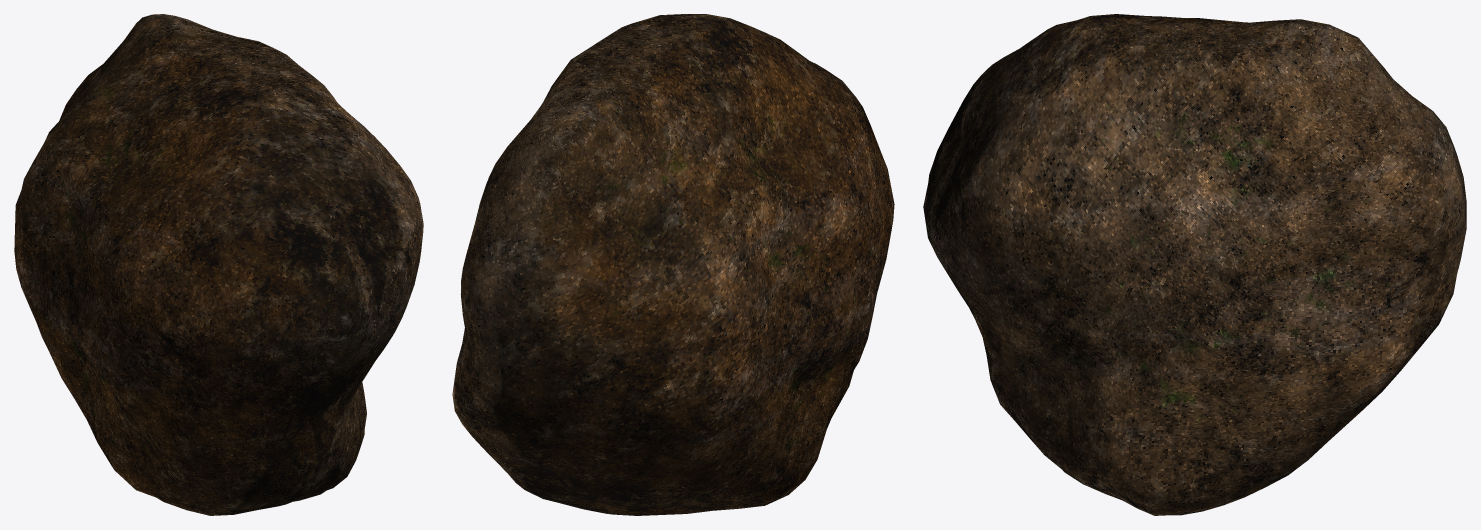
Rendered from SM_TI_Rock_1.gltf.
3 renders of one model, left to right at view 1: azimuth 30°, elevation 25°; view 2: azimuth 150°, elevation 25°; view 3: azimuth 270°, elevation 25°, orthographic. The views are drawn at different scales.
Visible parts, largest first — view 1: SM_TI_Rock_1; view 2: SM_TI_Rock_1; view 3: SM_TI_Rock_1.
Part boxes in pixels (x1,y1,x2,y2): SM_TI_Rock_1: (14, 14, 423, 515); SM_TI_Rock_1: (452, 14, 894, 515); SM_TI_Rock_1: (923, 14, 1466, 515).
Size of the model in its own units: 5.29 by 7.74 by 8.32.
1 material, 1 textured.
